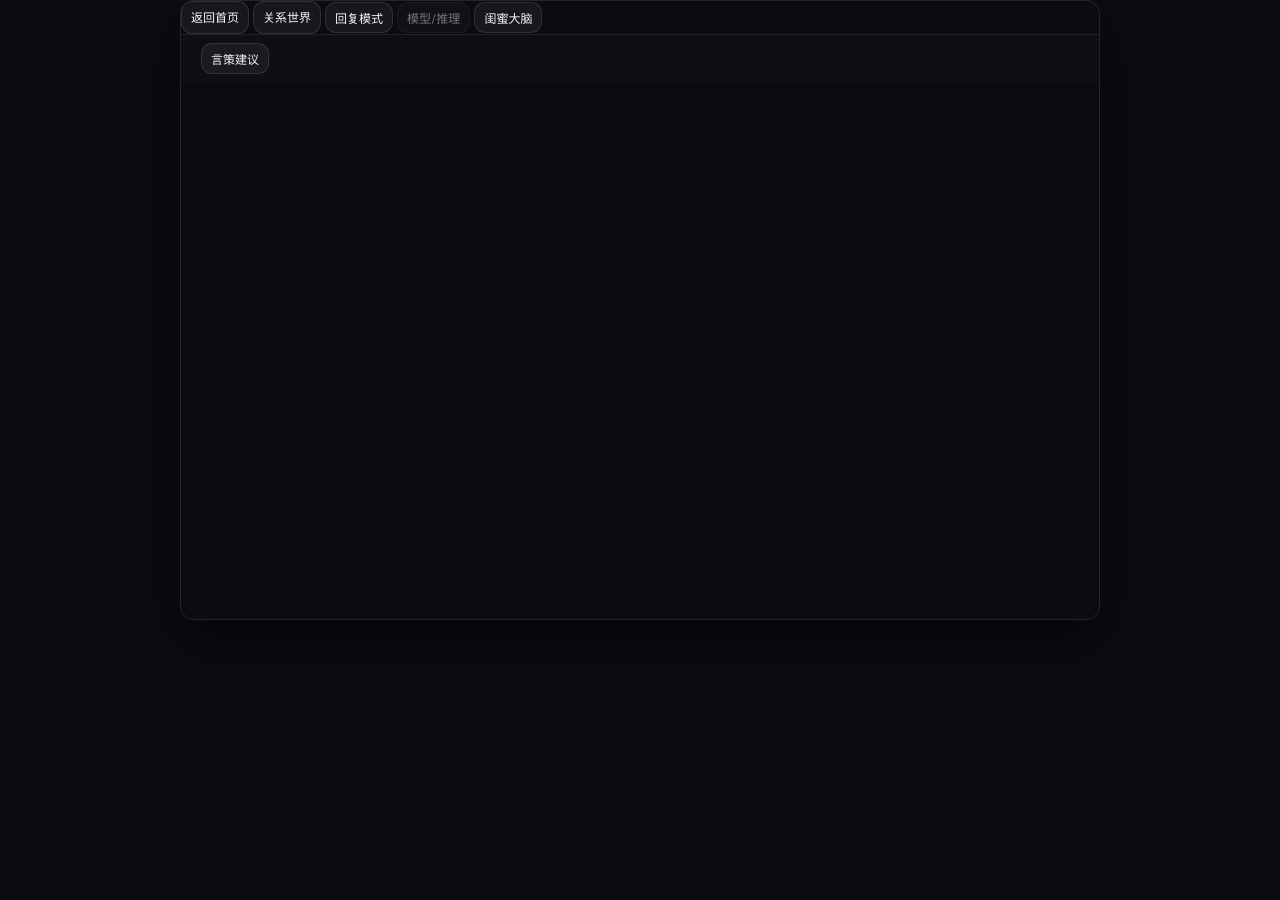
Test: YanceNativeHostView › starts Girlfriend Brain off and keeps its existing modal composition
Click the button "闺蜜大脑". click: (508, 18)
box: left=474, top=2, right=542, bottom=33
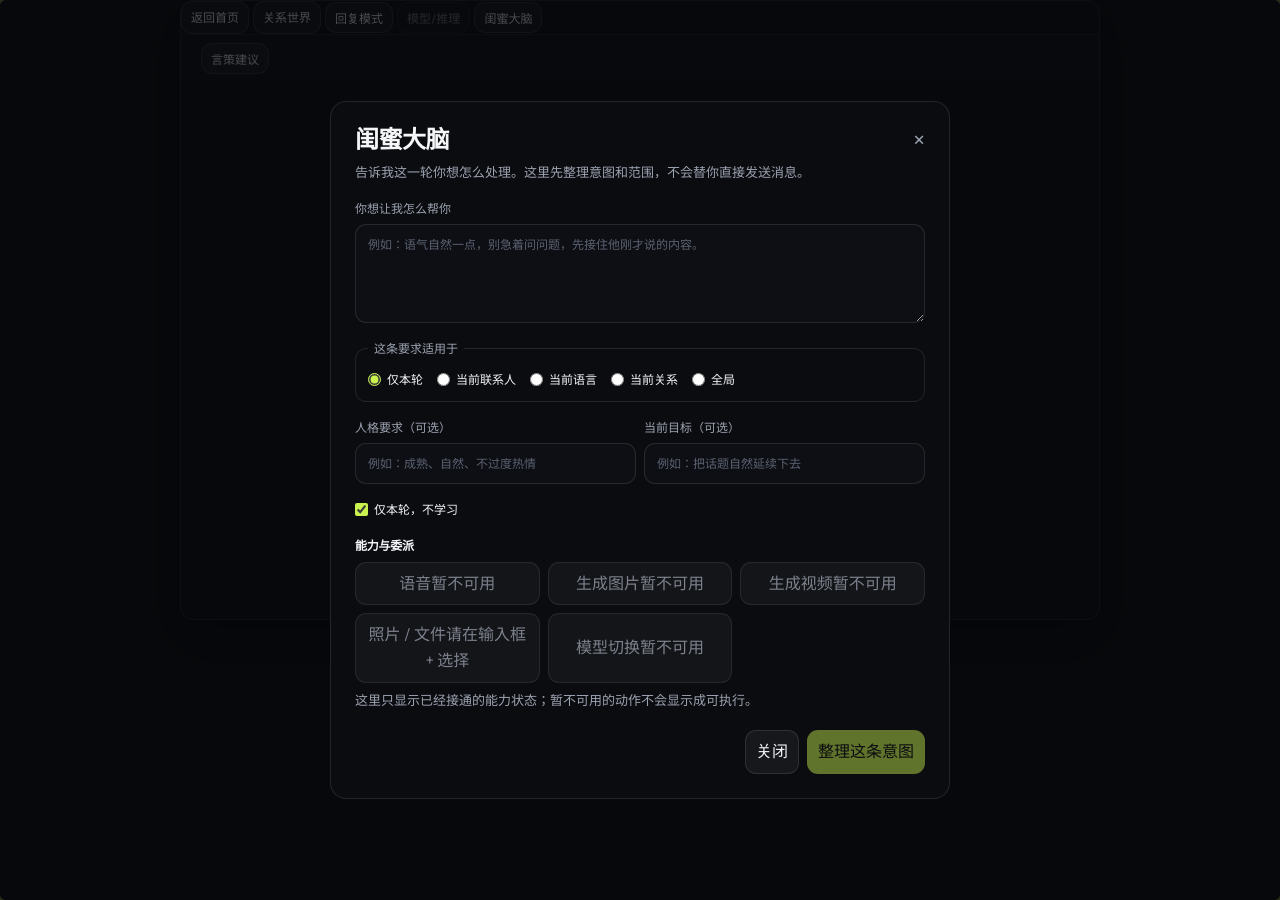
Expected: the element that starts with "告诉我这一轮你想怎么处理。这里先整理意图和范围，不会替你直接发送消息。" is shown, left=355, top=163, right=925, bottom=710
